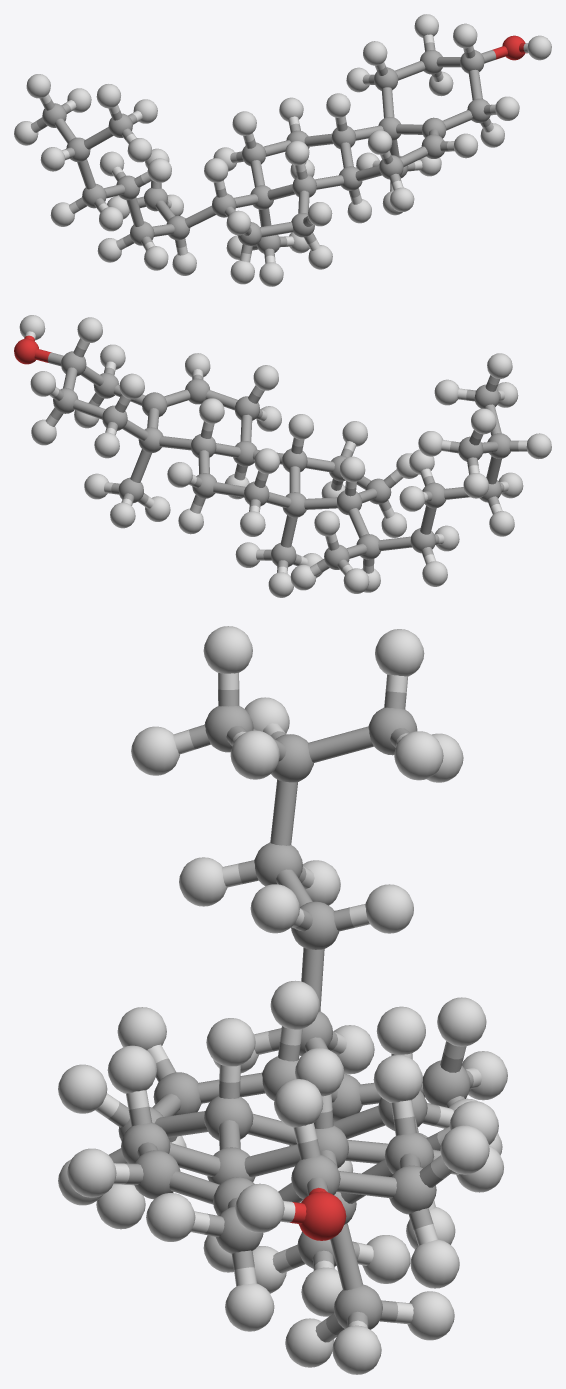
File: cholesterol-bas.glb
3 views of the same model, one above another, from view 1: azimuth 30°, elevation 25°; view 2: azimuth 150°, elevation 25°; view 3: azimuth 270°, elevation 25° (orthographic). The views are drawn at different scales.
Visible parts, largest first — view 1: cholesterol-bas; view 2: cholesterol-bas; view 3: cholesterol-bas.
Boxes of the visible parts, left/top/right/bottom form: cholesterol-bas: left=14, top=14, right=551, bottom=286; cholesterol-bas: left=14, top=315, right=551, bottom=597; cholesterol-bas: left=58, top=626, right=507, bottom=1374.
Bounding box in the file's own units: 16.58 × 7.78 × 6.38.
